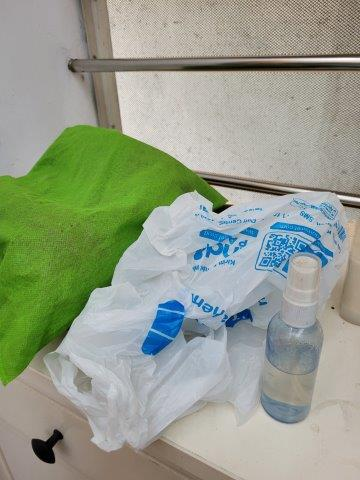plastik: (41, 188, 352, 436)
